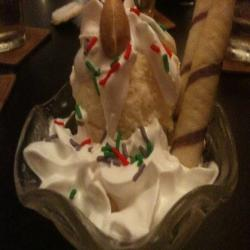chantilly: (31, 122, 215, 236)
icecream: (50, 2, 191, 143)
